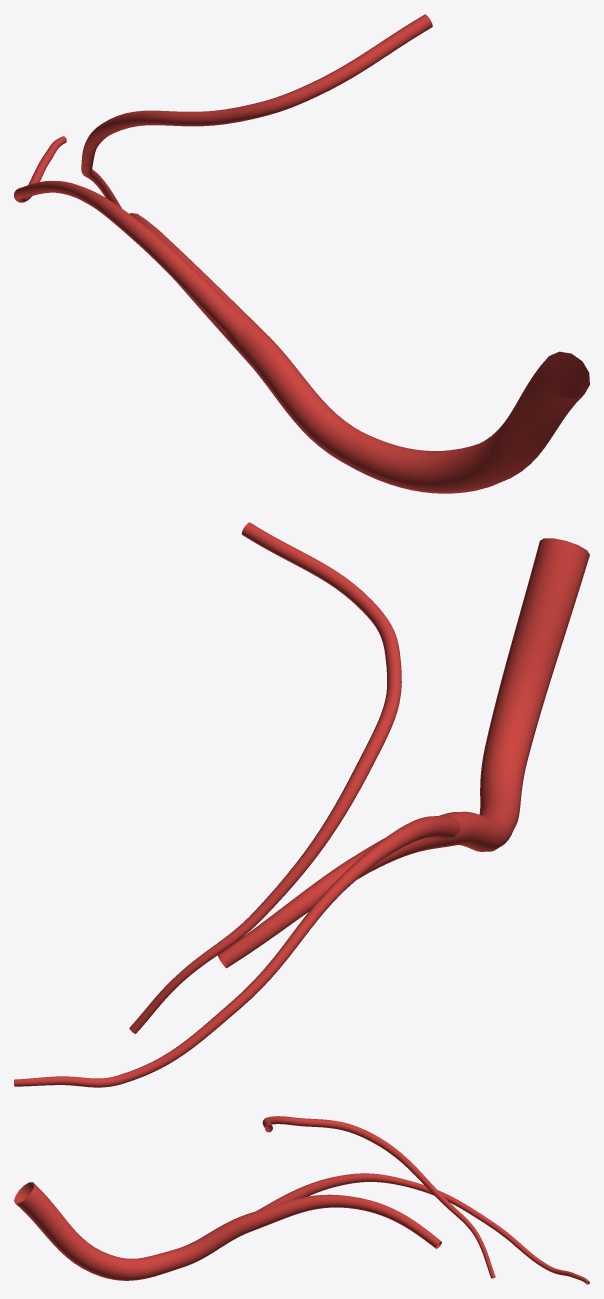
The picture shows the model from 3 angles, top to bottom: view 1: azimuth 30°, elevation 25°; view 2: azimuth 150°, elevation 25°; view 3: azimuth 270°, elevation 25°; orthographic projection. The views are drawn at different scales.
Visible parts, largest first — view 1: 左侧膝上内侧动脉; view 2: 左侧膝上内侧动脉; view 3: 左侧膝上内侧动脉.
Boxes of the visible parts, x1,y1,x2,y2 form: 左侧膝上内侧动脉: [14, 14, 589, 493]; 左侧膝上内侧动脉: [14, 522, 589, 1087]; 左侧膝上内侧动脉: [14, 1116, 589, 1284].
Bounding box in the file's own units: 0.0536 × 0.077 × 0.2127.
